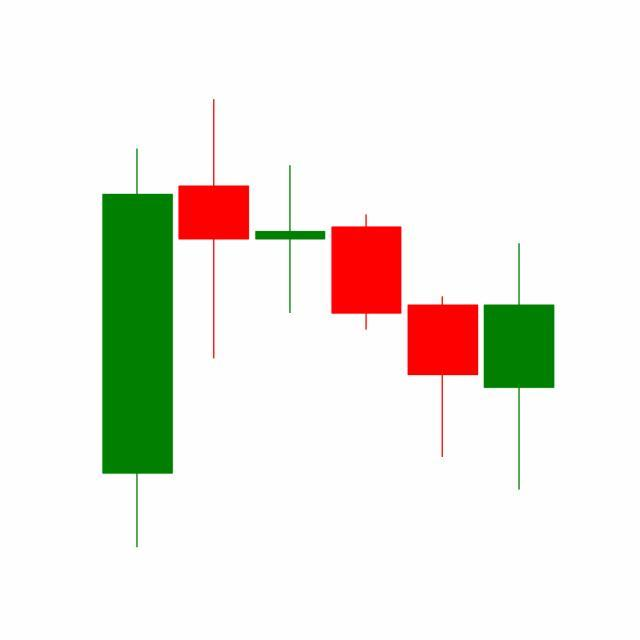Three Outside Up-Down: (252, 162, 482, 461)
